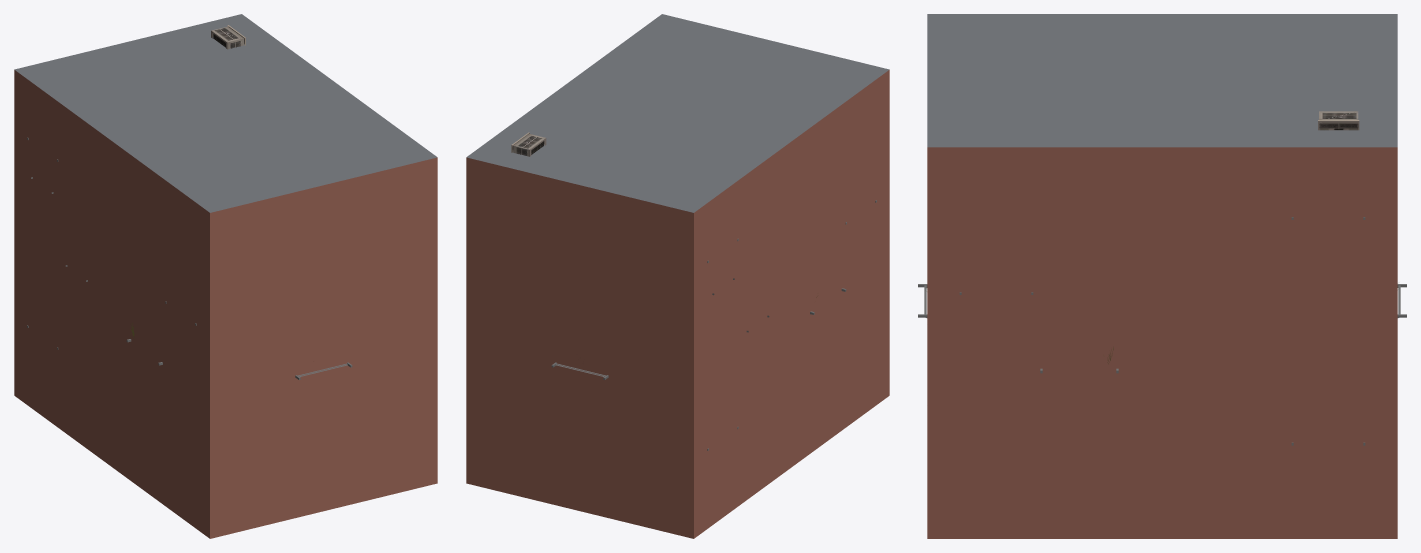
File: bldg_04_red_brick_grand.glb
3 renders of one model, left to right at view 1: azimuth 30°, elevation 25°; view 2: azimuth 150°, elevation 25°; view 3: azimuth 270°, elevation 25°, orthographic. The views are drawn at different scales.
Parts seen in each view (by area): view 1: bldg_04_red_brick_grand; view 2: bldg_04_red_brick_grand; view 3: bldg_04_red_brick_grand.
Boxes of the visible parts, bbox=[...] form: bldg_04_red_brick_grand: bbox=[14, 14, 437, 538]; bldg_04_red_brick_grand: bbox=[466, 14, 889, 538]; bldg_04_red_brick_grand: bbox=[918, 14, 1406, 538].
Bounding box in the file's own units: 8.05 × 10.66 × 11.78.
Materials: 8 (6 with a texture image).
